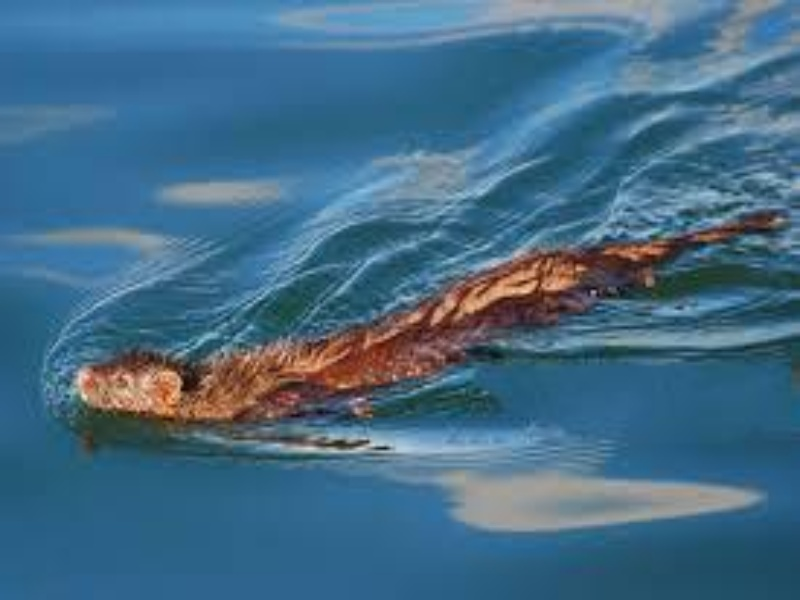minkish: (72, 210, 783, 423)
